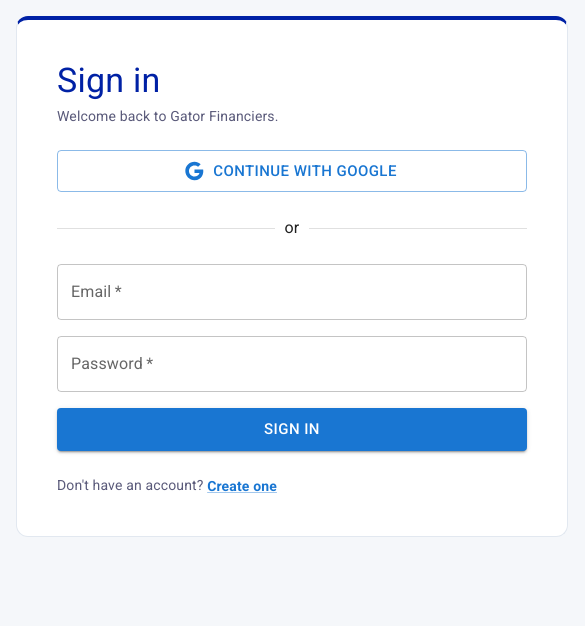
Test case: LoginPage › surfaces the auth error message when sign-in fails
The width and height of the screenshot is (585, 626).
Type "a@b.com" into the field labelled "Email *" at (292, 292), box x1=57 y1=264 x2=527 y2=320
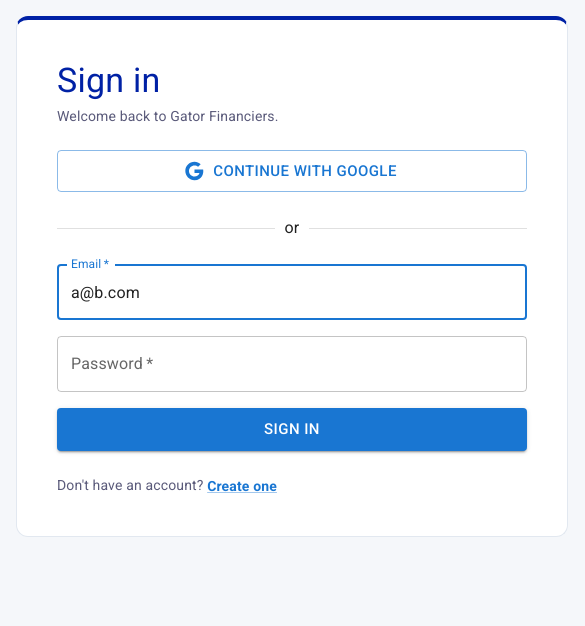
Type "wrong" into the password field labelled "Password *" at (292, 364), box x1=57 y1=336 x2=527 y2=392
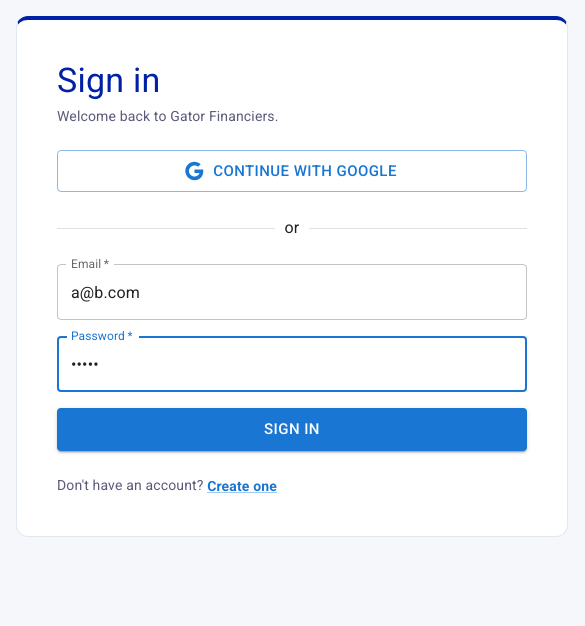
Click the button "Sign in" at (292, 429), box x1=57 y1=408 x2=527 y2=451
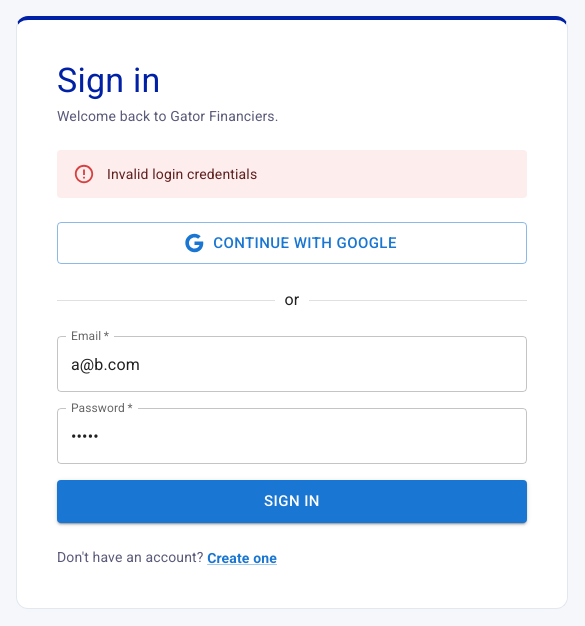
Expected: the text "Invalid login credentials" is shown, x1=107 y1=166 x2=257 y2=182
